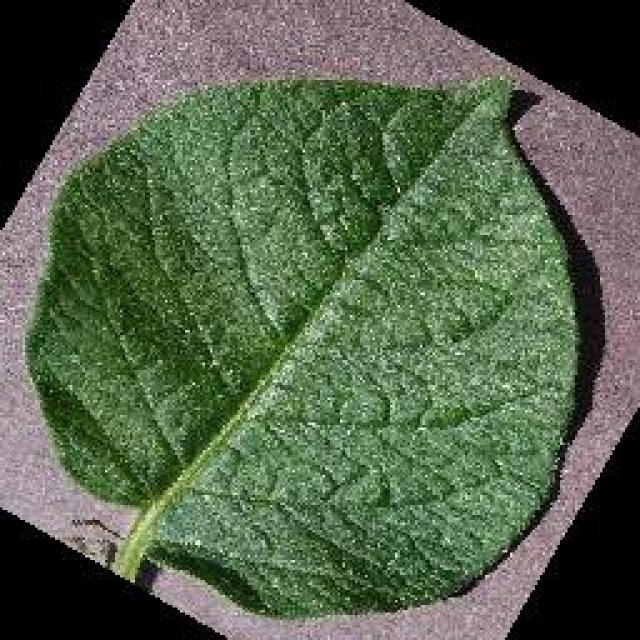Potato___healthy: (25, 73, 582, 624)
